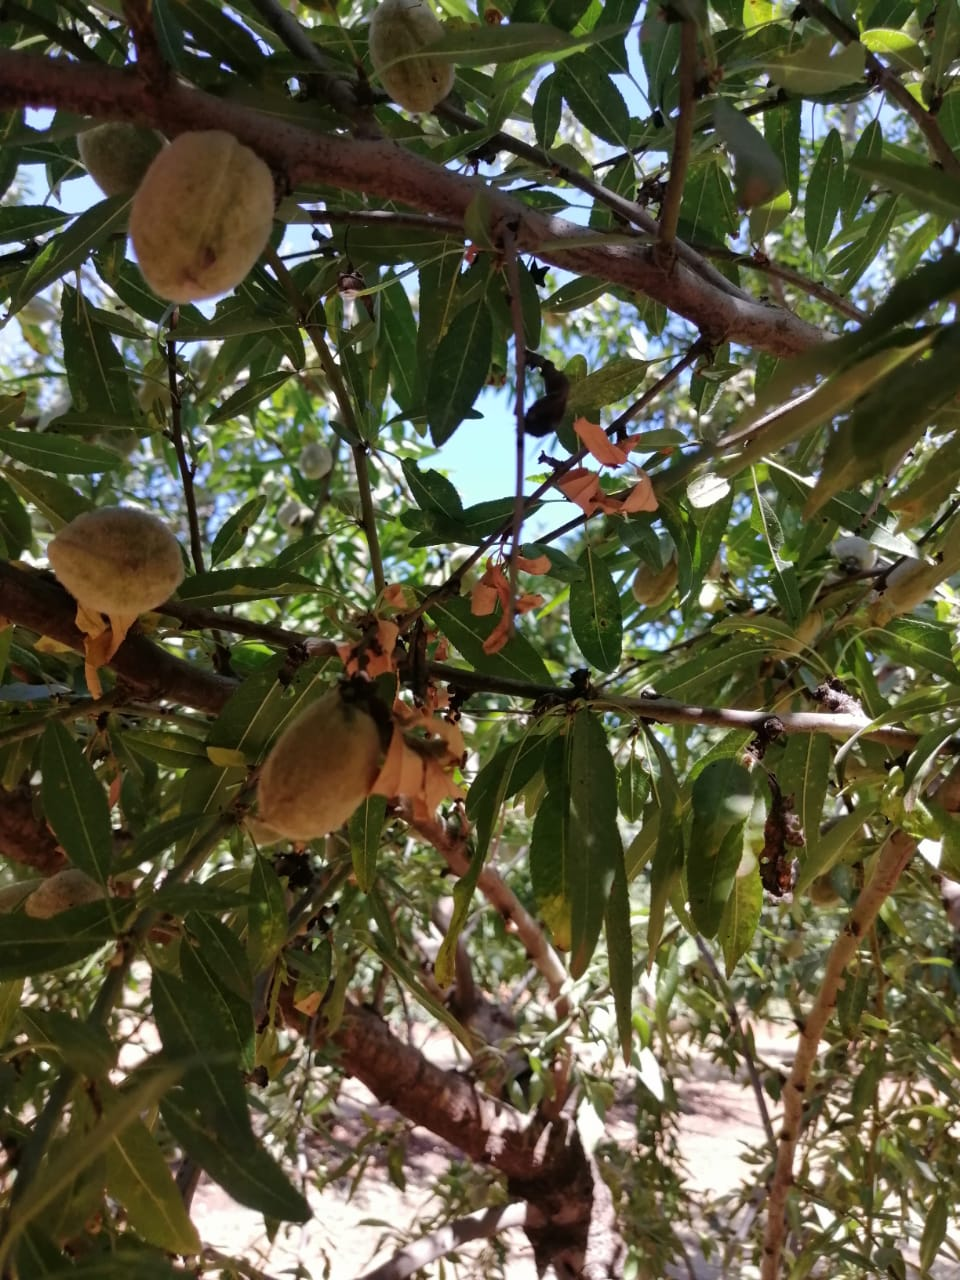chancre fusicocum: (338, 418, 634, 695)
